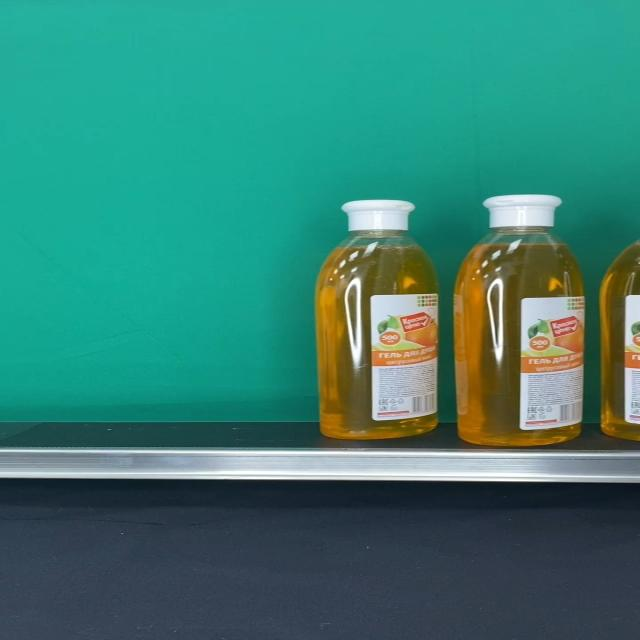Bottle: (456, 194, 586, 445), (316, 200, 438, 440)
Cap: (482, 194, 564, 227), (341, 200, 416, 230)
